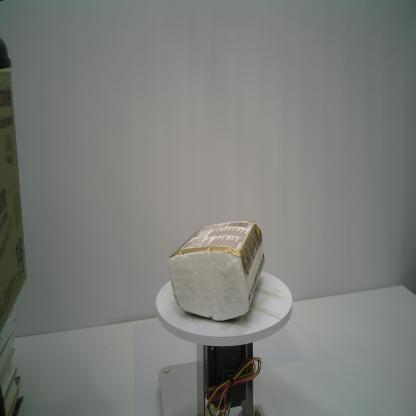Tissue: (167, 220, 264, 322)
